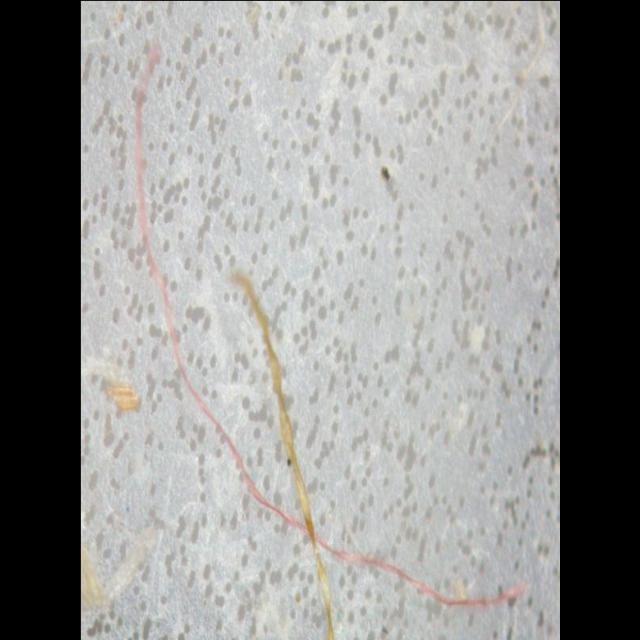Fibre: (126, 34, 532, 614), (224, 255, 333, 640)
